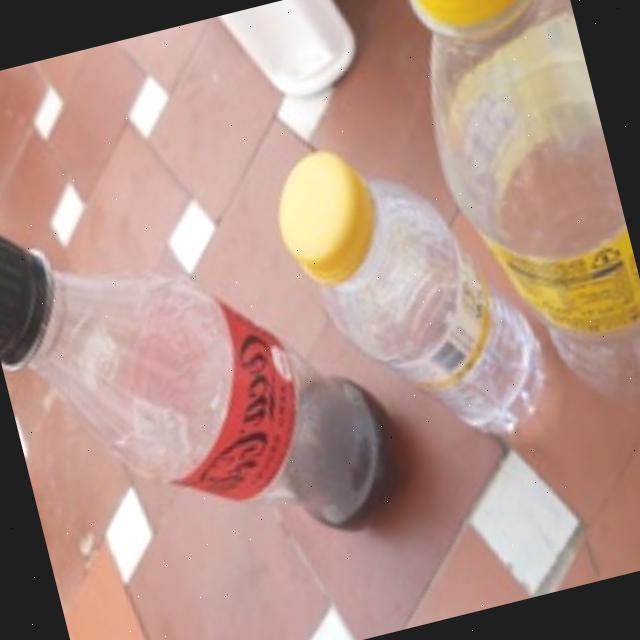trash: (0, 138, 410, 607), (255, 108, 570, 506), (394, 0, 640, 448)
